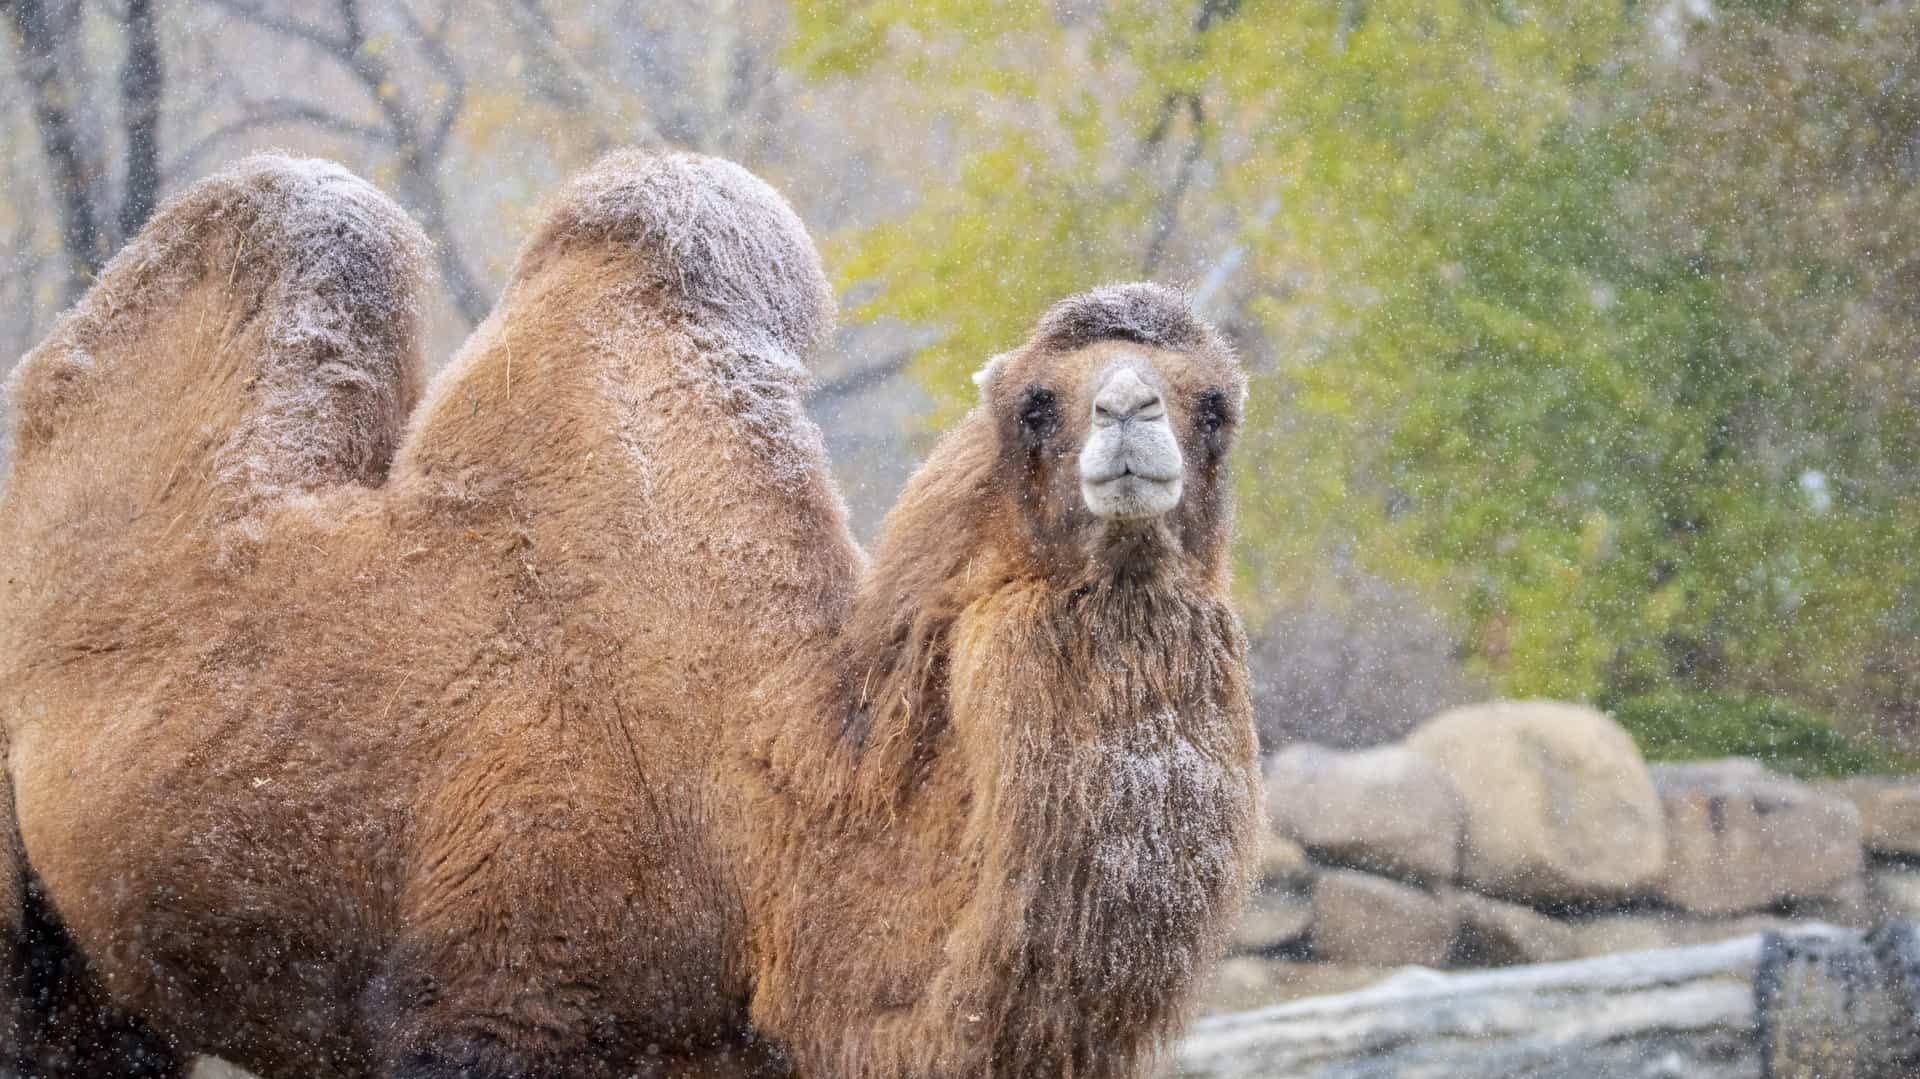camel: (32, 140, 1317, 1079)
